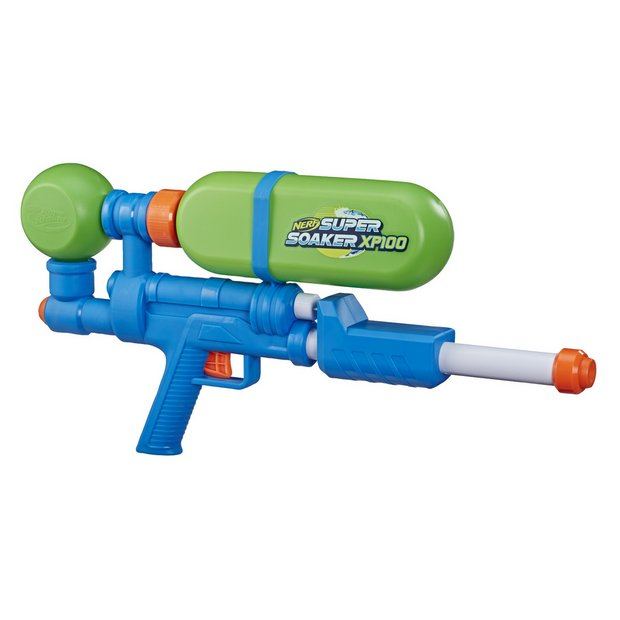Arma Falsa: (18, 160, 620, 483)
